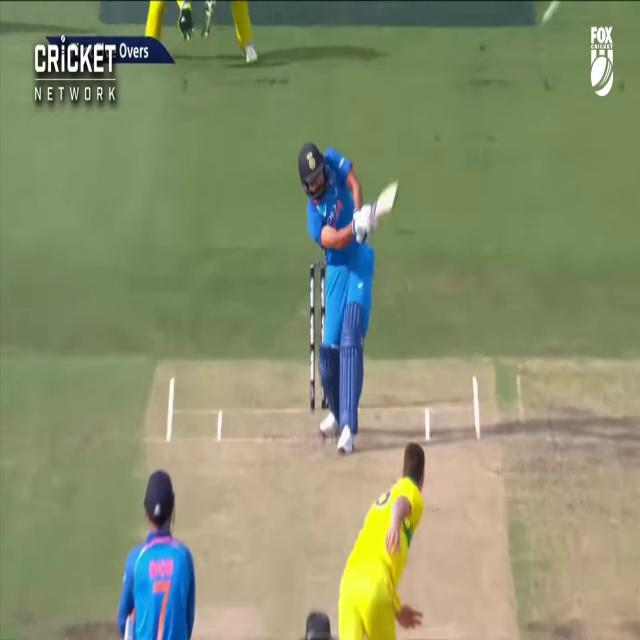stump: (310, 261, 326, 411)
